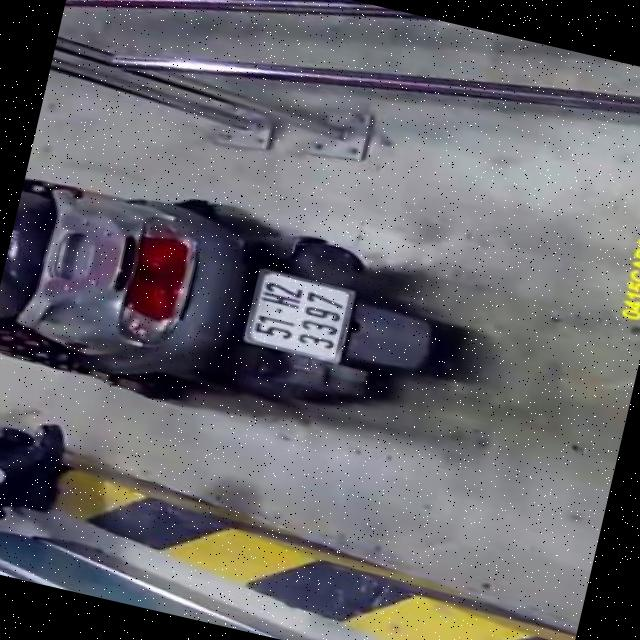license_plate: (243, 268, 357, 364)
